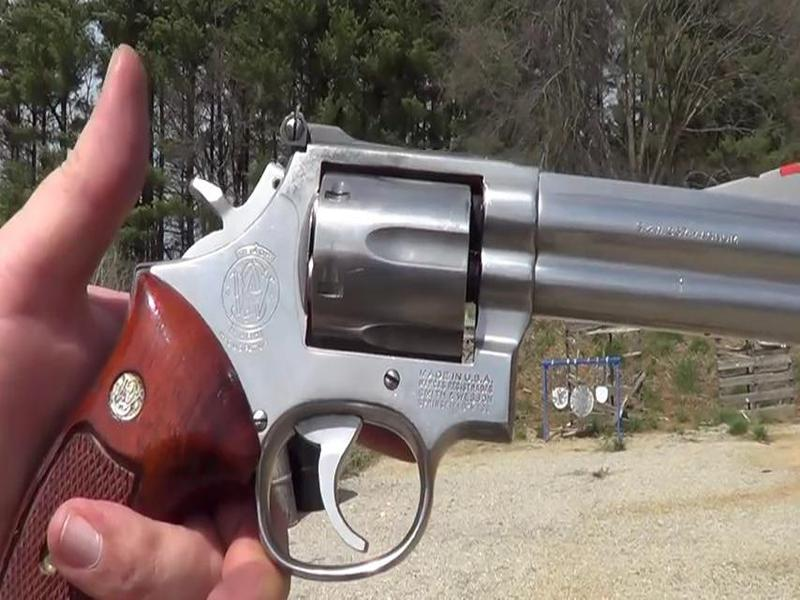Revolver: (85, 54, 800, 575)
